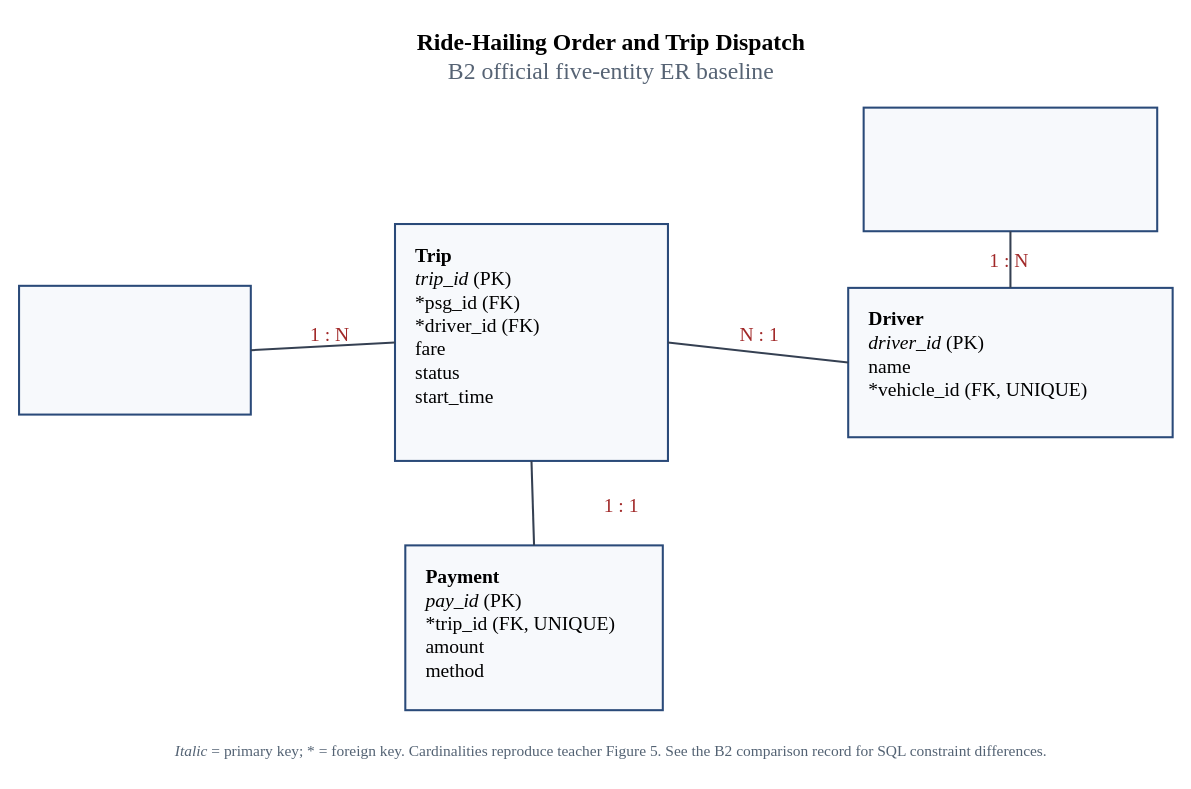
Image size: 1191x789. Some labels were removed from this diagram. The shapes that lost their labels are listed below. From the top down, each one's centre as x and y in pixels, then its label:
the point at 1010,169: Vehicle vehicle_id (PK) plate (UNIQUE)
the point at 134,349: Passenger psg_id (PK) name
